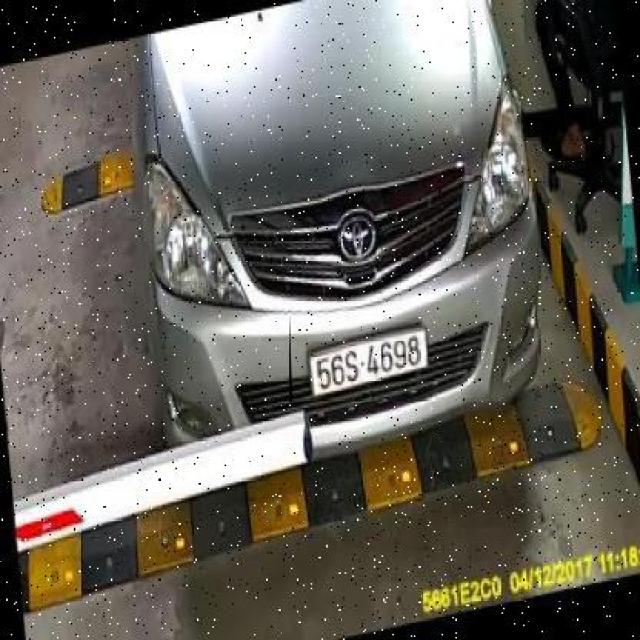number_plate: (290, 313, 432, 402)
